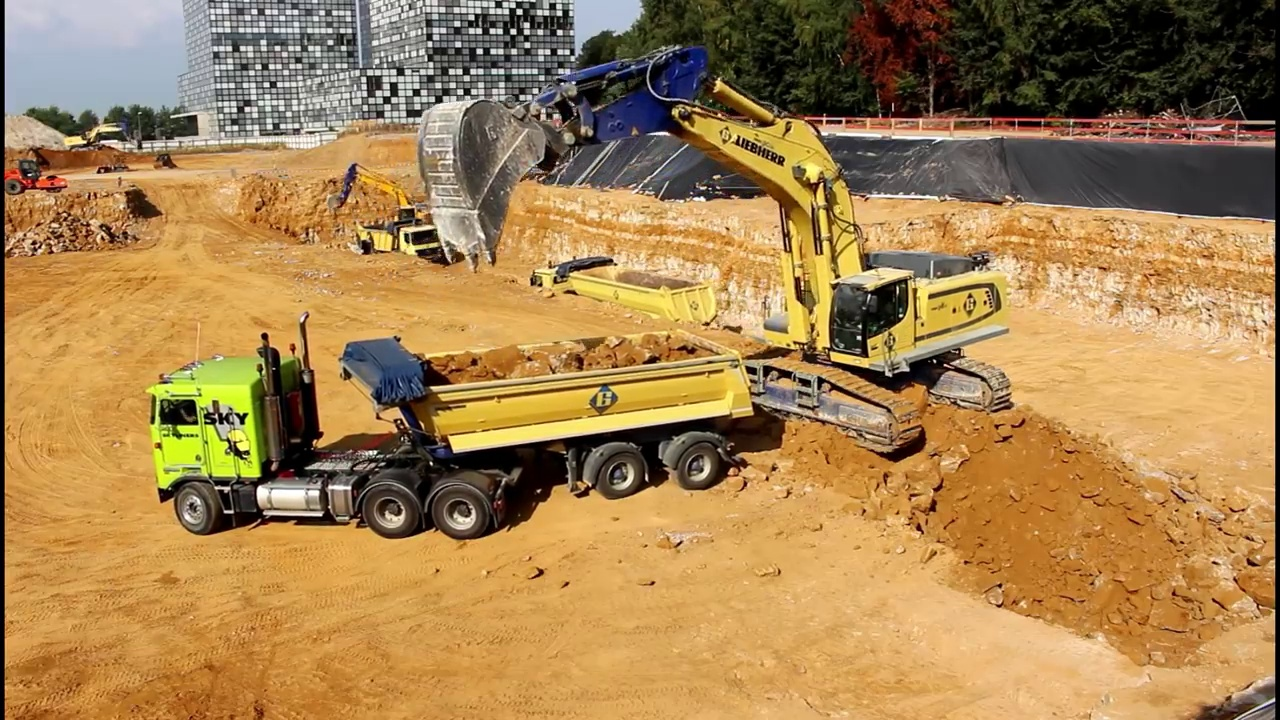compactor: (6, 157, 71, 196)
excavator: (410, 38, 1020, 462), (319, 157, 450, 244), (61, 119, 146, 162)
truck: (140, 307, 762, 547), (527, 247, 723, 357), (348, 205, 458, 278)
